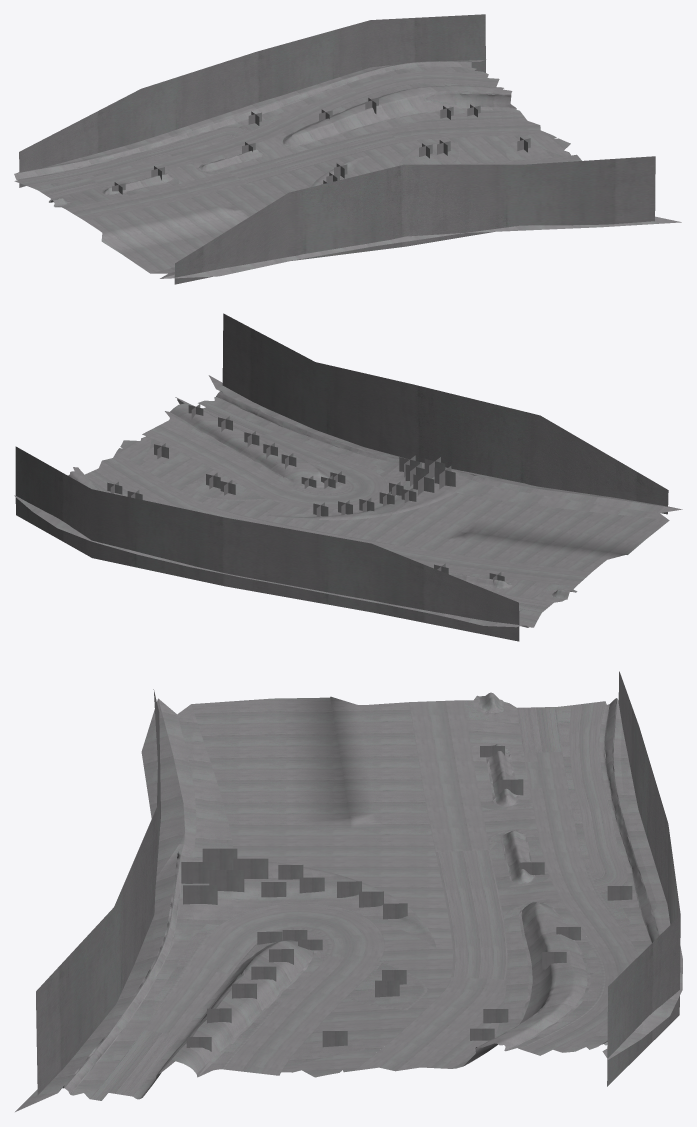
Rendered from ebisuw3.glb.
3 views of the same model, one above another, from view 1: azimuth 30°, elevation 25°; view 2: azimuth 150°, elevation 25°; view 3: azimuth 270°, elevation 25° (orthographic). The views are drawn at different scales.
Parts seen in each view (by area): view 1: ebisuw3; view 2: ebisuw3; view 3: ebisuw3.
Part boxes in pixels (x1=…): ebisuw3: x1=14, y1=14, x2=681, y2=284; ebisuw3: x1=14, y1=313, x2=682, y2=641; ebisuw3: x1=15, y1=671, x2=682, y2=1111.
Bounding box in the file's own units: 281 × 46.01 × 212.
1 material, 1 textured.
